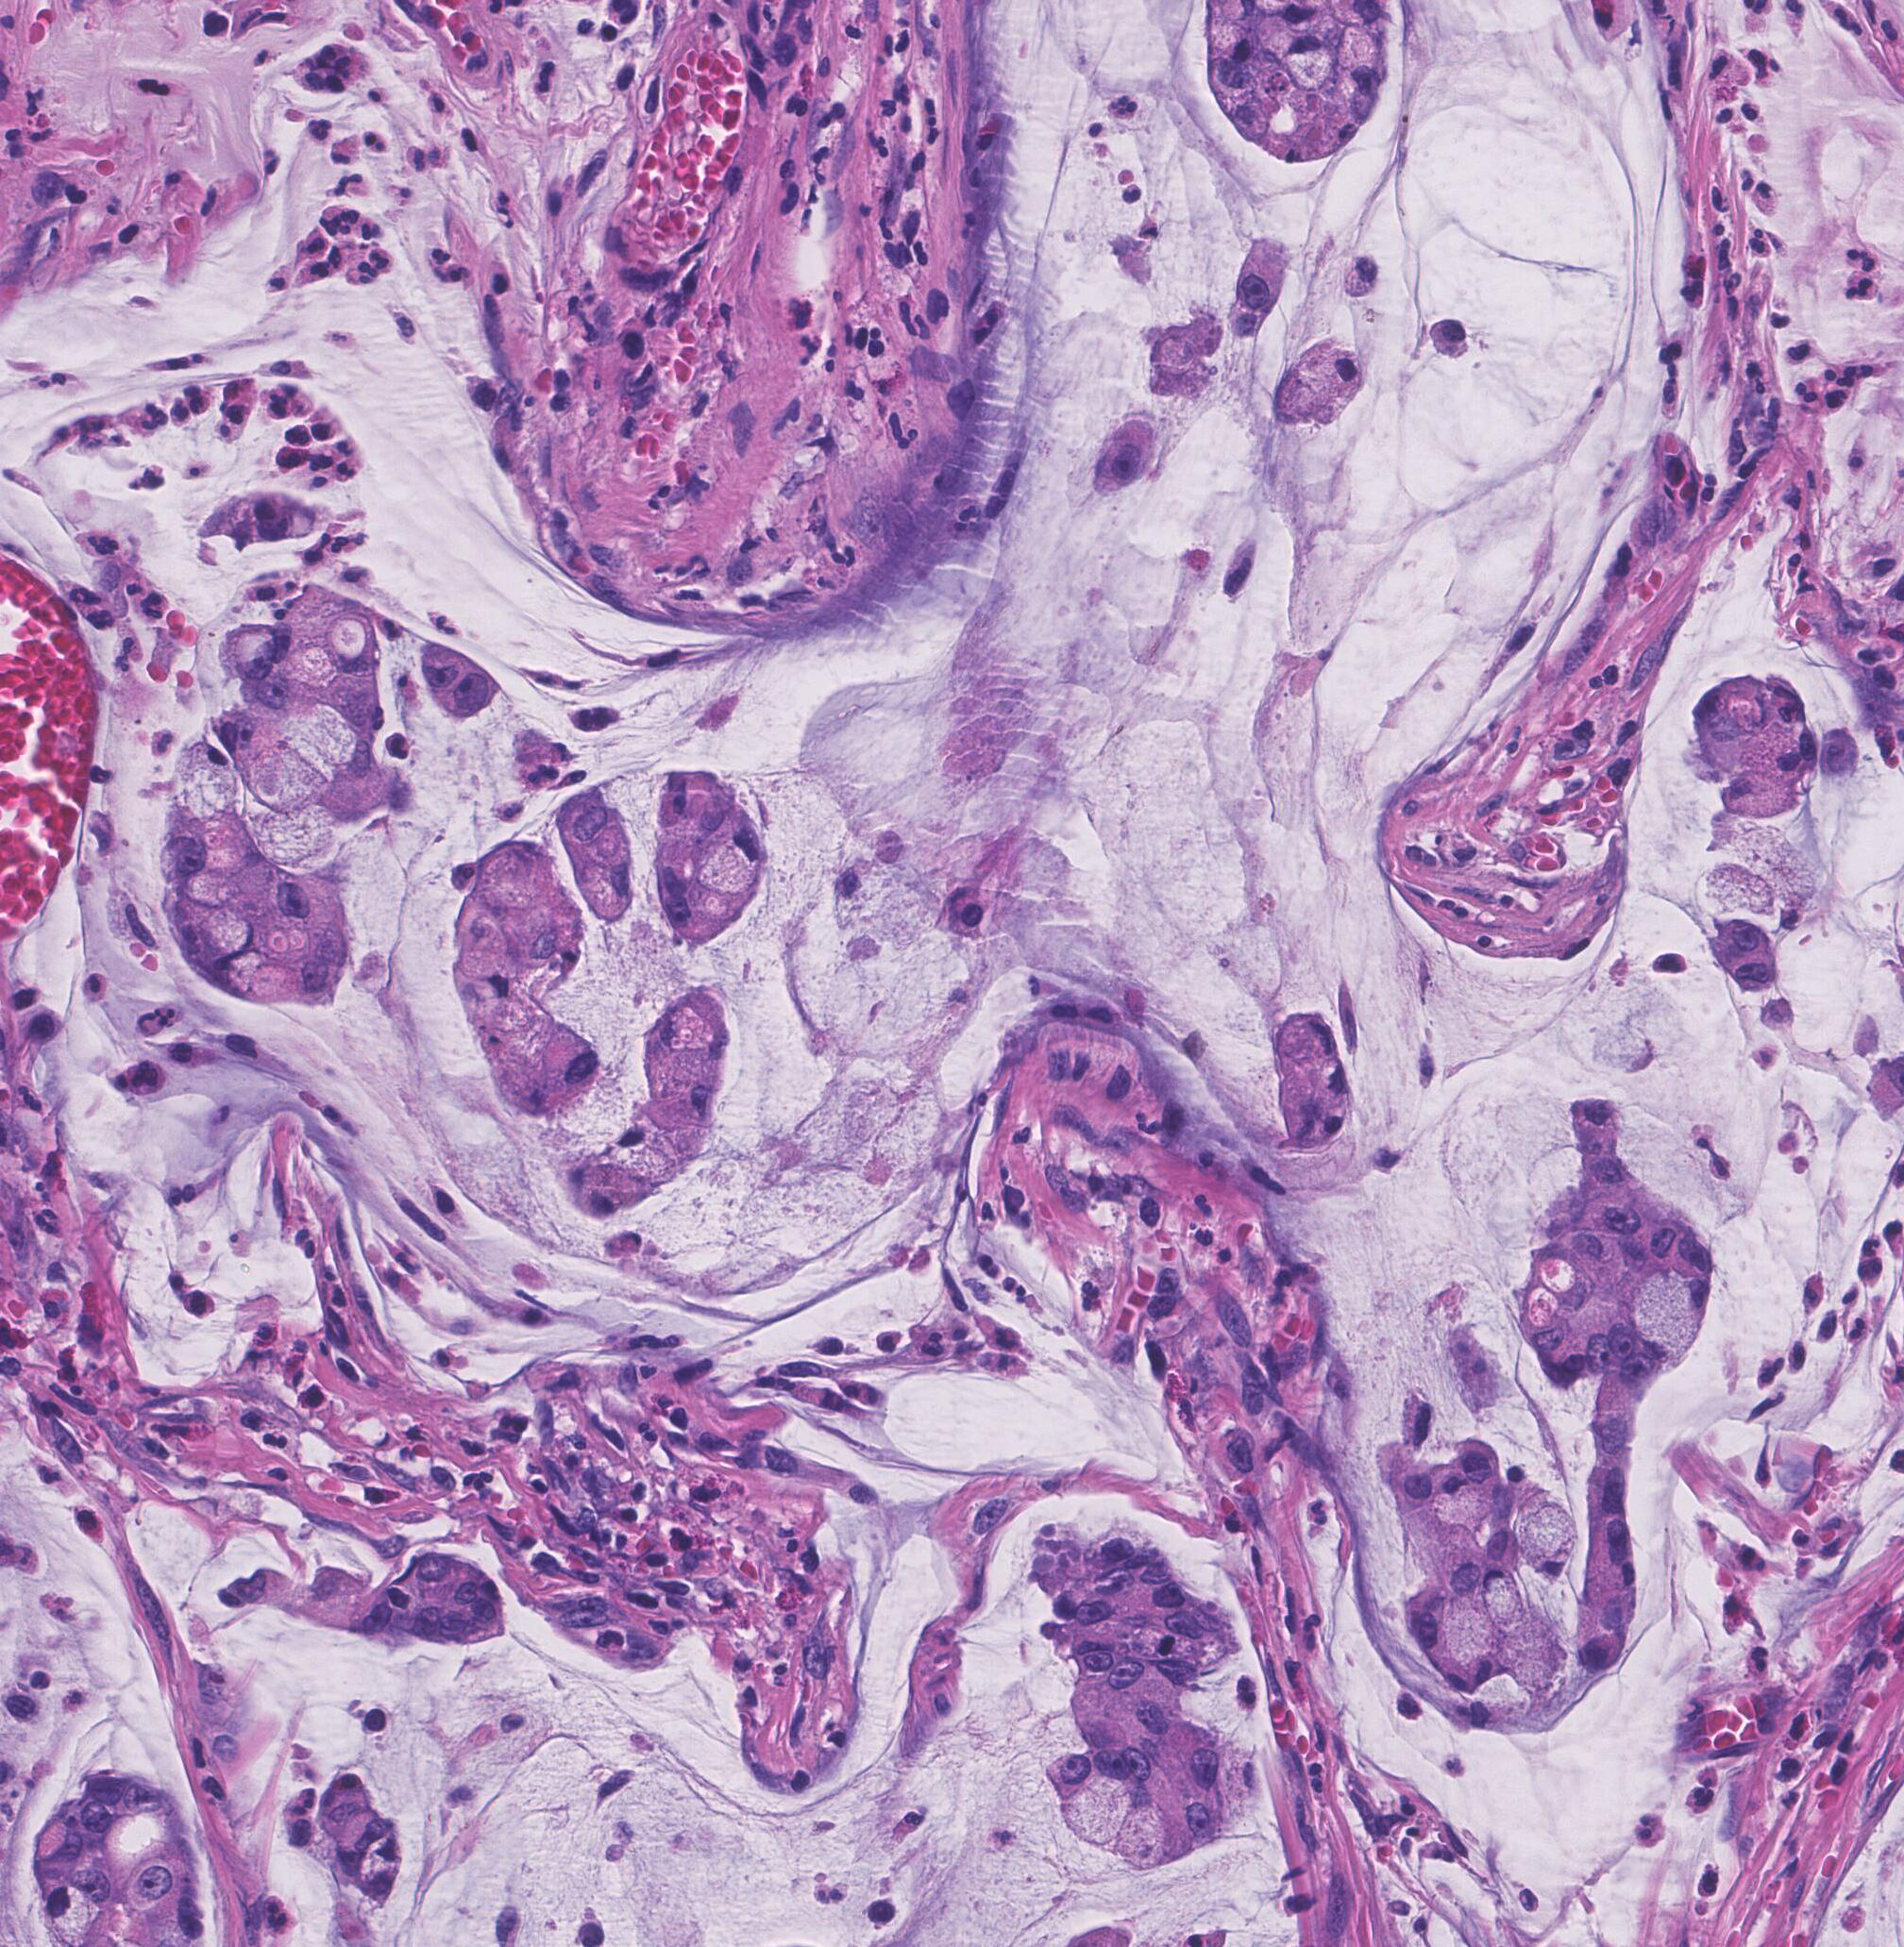ring_cell_cancer: (1632, 1267, 1707, 1344), (577, 1164, 656, 1224), (1447, 1600, 1496, 1693), (1520, 1501, 1578, 1577), (260, 872, 337, 926), (1409, 1598, 1463, 1672), (1686, 687, 1745, 751), (159, 816, 214, 884), (703, 831, 764, 892), (481, 837, 542, 898), (610, 1121, 673, 1180), (1717, 772, 1796, 817), (42, 1883, 99, 1944), (1383, 1391, 1437, 1455), (445, 969, 518, 1016), (1266, 1014, 1336, 1063), (652, 1004, 715, 1056), (547, 1027, 598, 1091), (1587, 1403, 1641, 1462), (181, 739, 234, 800), (1466, 1679, 1529, 1729), (554, 798, 617, 849), (1480, 1564, 1524, 1633), (652, 1074, 717, 1121), (1573, 1156, 1637, 1201), (33, 1813, 85, 1869), (492, 1070, 553, 1117), (588, 865, 640, 919), (647, 847, 699, 901), (197, 908, 258, 953), (1280, 1112, 1343, 1156), (131, 1855, 180, 1910), (1285, 1070, 1351, 1110), (1742, 736, 1803, 777), (455, 919, 500, 973), (1710, 915, 1771, 955), (1719, 959, 1782, 995), (1569, 1640, 1627, 1679), (220, 713, 274, 753), (659, 899, 704, 946), (1590, 1565, 1641, 1607), (1581, 1469, 1632, 1511), (1564, 1100, 1622, 1136), (216, 952, 269, 992), (1819, 727, 1857, 779), (1677, 1227, 1717, 1274), (546, 936, 582, 985), (1524, 1319, 1566, 1361), (1595, 1201, 1641, 1239), (1456, 1442, 1496, 1483), (1592, 1522, 1634, 1560), (1642, 1215, 1679, 1258), (659, 769, 717, 795), (1615, 1356, 1656, 1391), (1547, 1356, 1588, 1391), (1426, 1466, 1463, 1504), (1580, 1335, 1615, 1375), (1759, 678, 1799, 708), (654, 791, 689, 824), (1852, 689, 1885, 723), (1749, 709, 1799, 732), (1606, 1321, 1632, 1354)
